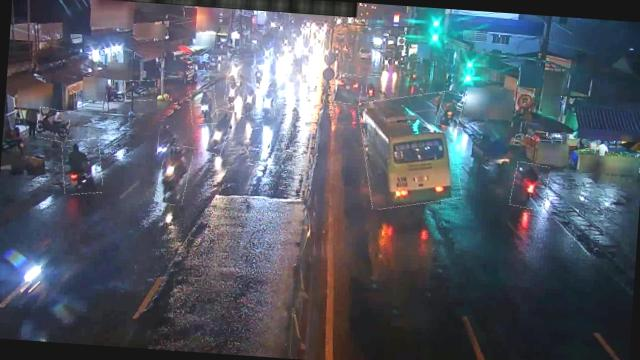Bike: (59, 137, 104, 196), (156, 142, 192, 206), (510, 162, 550, 209), (36, 108, 70, 142), (188, 88, 218, 126), (208, 108, 230, 154), (437, 92, 463, 128), (157, 120, 176, 162), (124, 79, 156, 101), (258, 87, 276, 118), (240, 85, 256, 117), (250, 64, 268, 87), (224, 79, 240, 104), (227, 59, 242, 83), (366, 76, 382, 98)
Bus: (356, 89, 464, 211)
Car: (331, 72, 362, 104)
